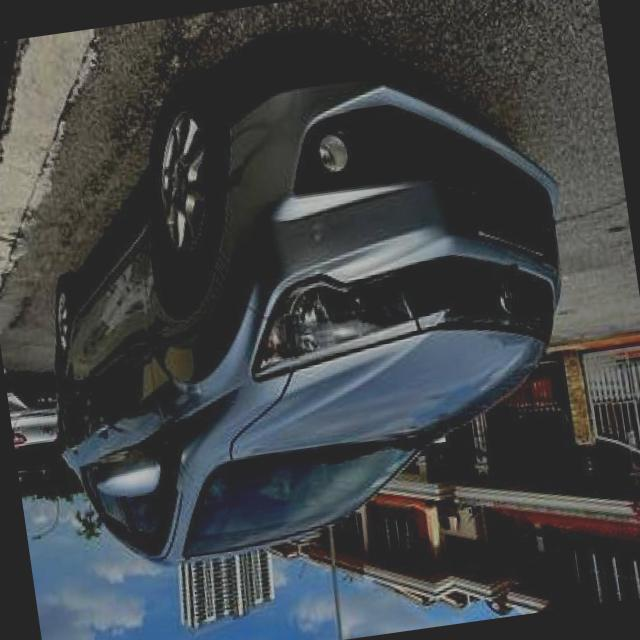PeroduaBezza: (11, 41, 604, 582)
